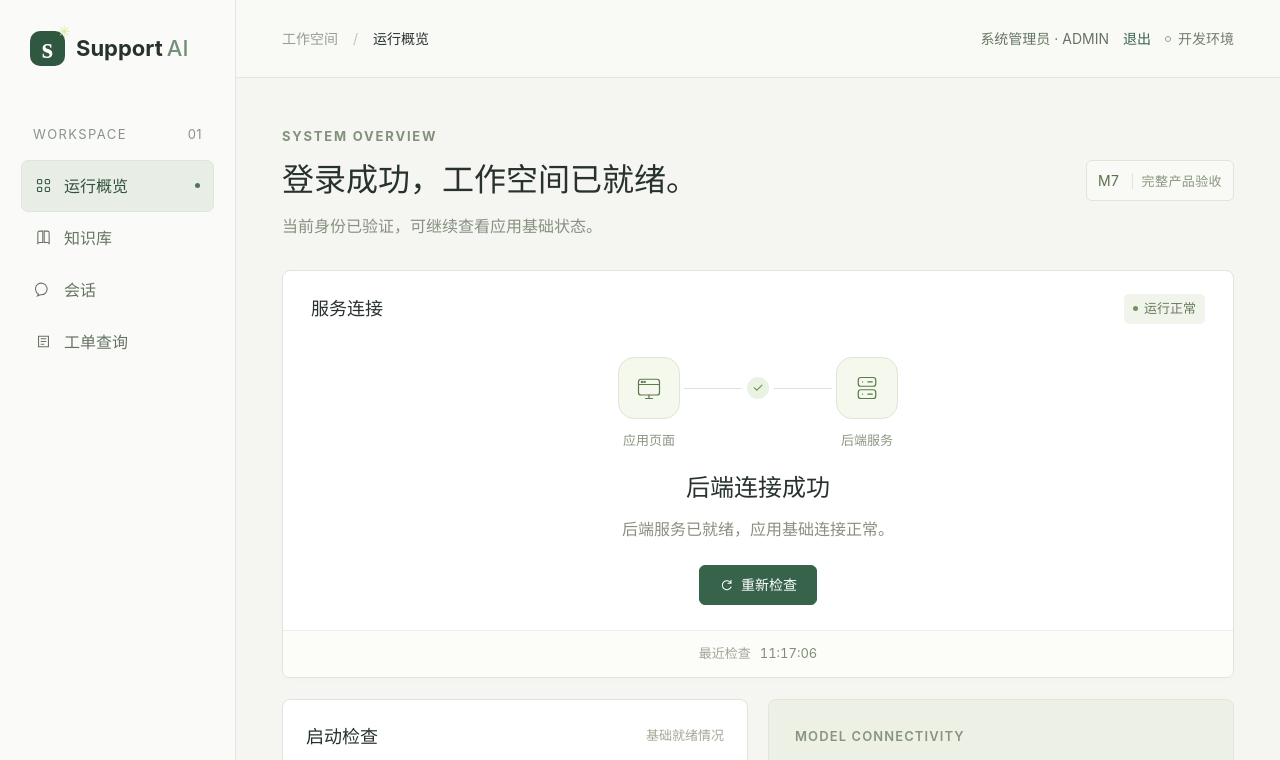
Test: 运行概览 › 侧栏可在运行概览与知识库之间切换
Click the button with class "navigation-item" showing "知识库".
click(118, 238)  # box [21,212,214,264]
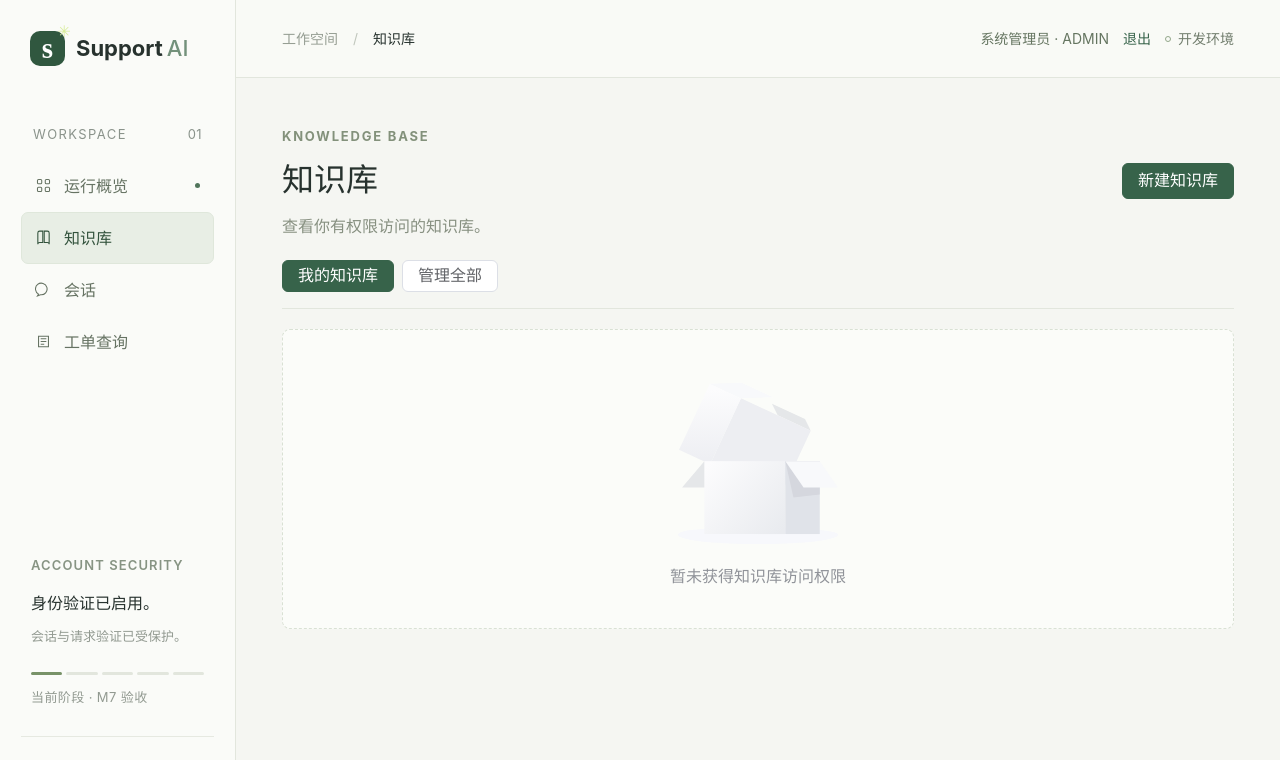
expect the heading with id "knowledge-heading" reads "知识库": met, box [282,160,378,199]
expect the text "暂未获得知识库访问权限" is shown: met, box [670,564,846,588]
